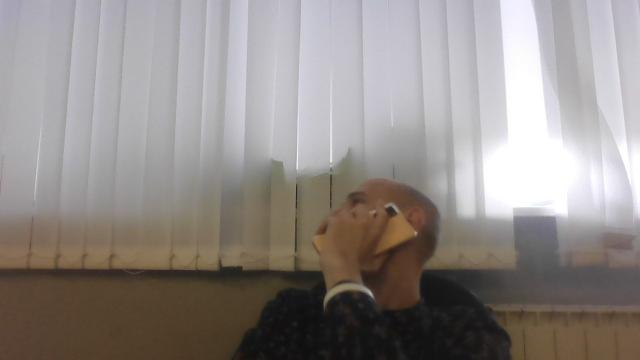Phone: (310, 200, 418, 268)
